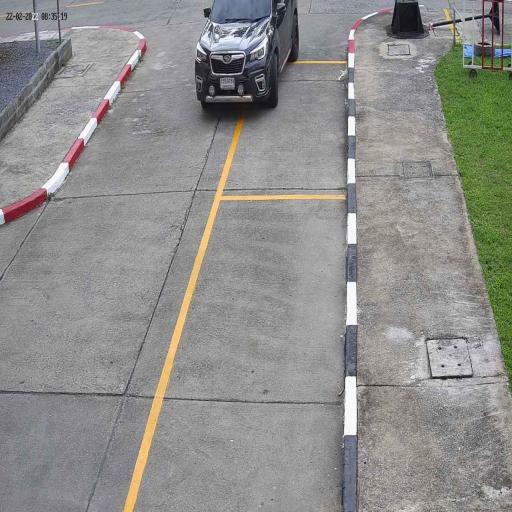car: (194, 0, 299, 112)
